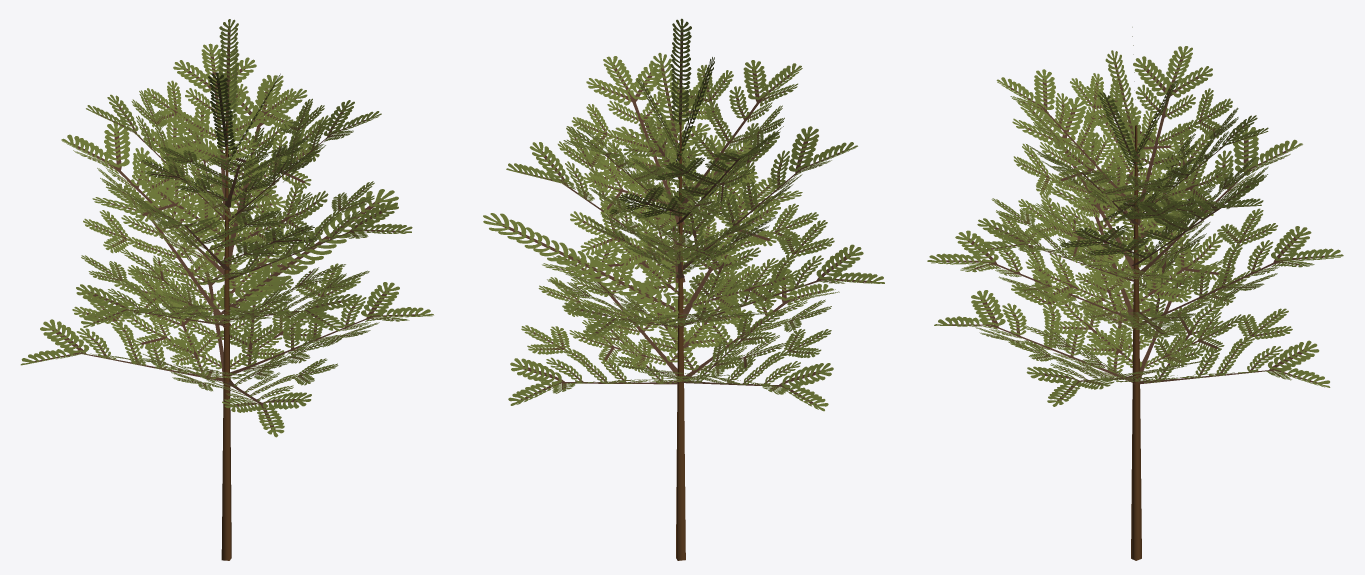
File: Young_Fir_Tree_1.fbx
3 views of the same model, side by side, from view 1: azimuth 30°, elevation 25°; view 2: azimuth 150°, elevation 25°; view 3: azimuth 270°, elevation 25° (orthographic).
Parts seen in each view (by area): view 1: Young_Fir_Tree_1; view 2: Young_Fir_Tree_1; view 3: Young_Fir_Tree_1.
Part boxes in pixels (box(x1,y1,x2,y2)): Young_Fir_Tree_1: box(20, 19, 433, 560); Young_Fir_Tree_1: box(483, 18, 884, 560); Young_Fir_Tree_1: box(927, 27, 1343, 560).
Size of the model in its own units: 87.46 by 123 by 88.56.
Materials: 2 (2 with a texture image).
